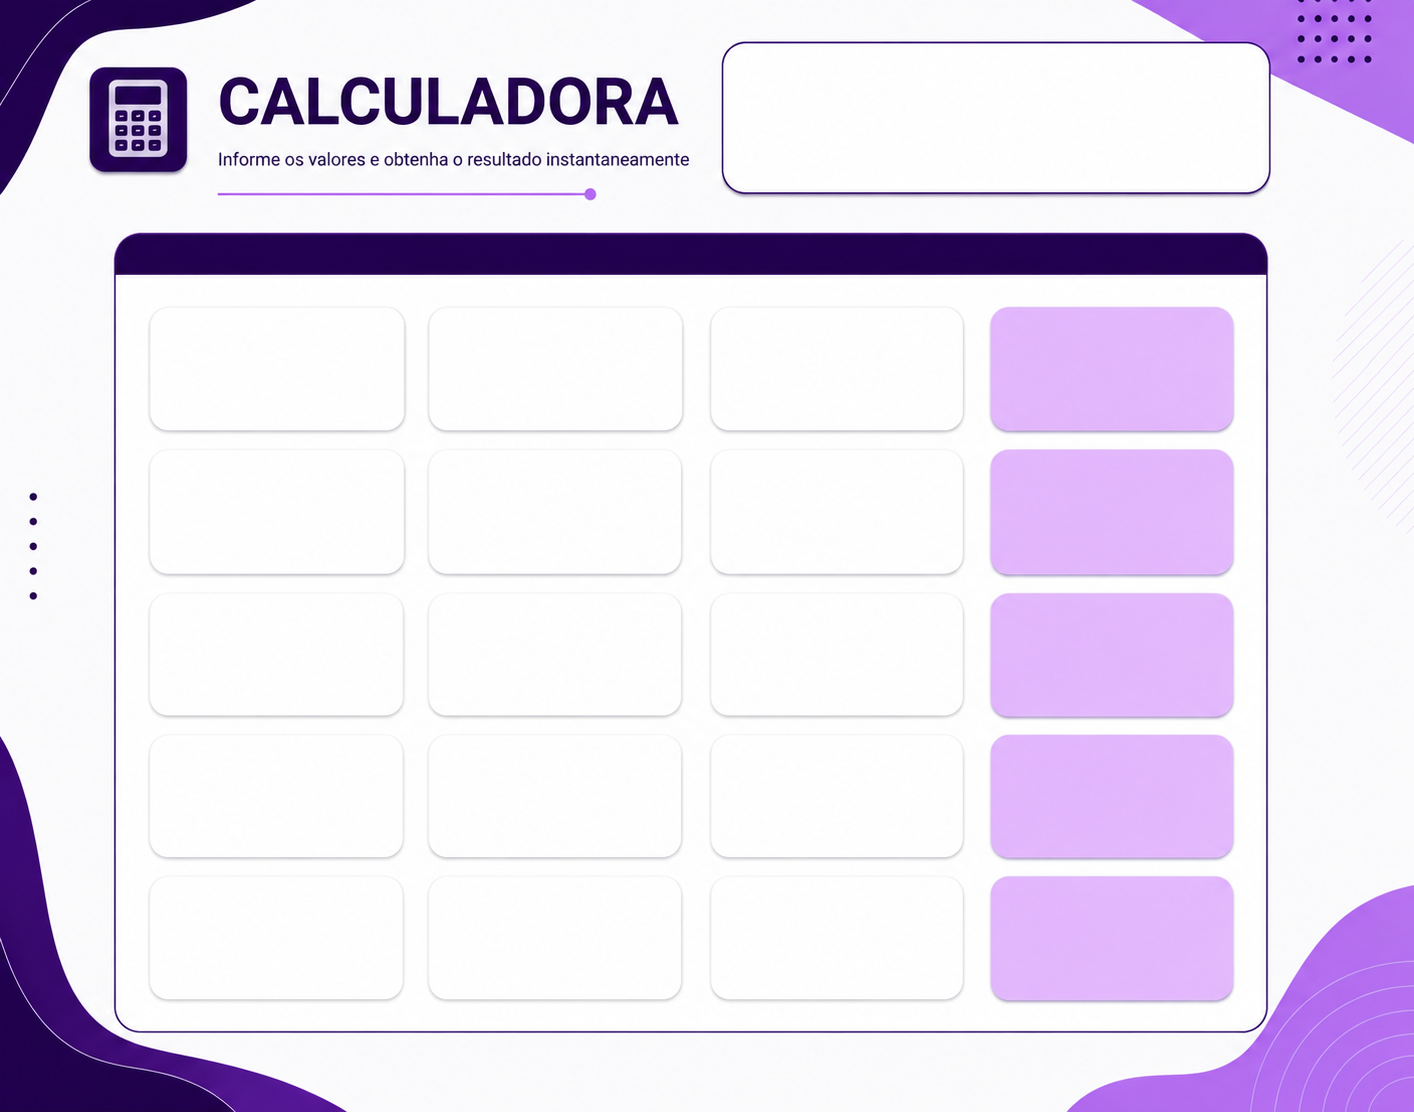

Layout of this report page (visuals, bound fields, positions):
{"tool":"tableau","page":{"name":"Calculadora","canvas":[1000,800],"ordinal":0},"visuals":[{"type":"image","param":"Image/imagemV2.png","box":[0,0,1000,800]},{"type":"worksheet","title":"Visor","mark":"Automatic","box":[514,44,384,94]},{"type":"worksheet","title":"Teclado","mark":"Square","rows":["Row"],"cols":["Column"],"box":[99,221,788,497]}]}

Visuals, with their boxes in screenshot pixels (x1, y1, x2, y2), scaled from the page's 1000x800 canvas onto the 1414x1112 screenshot:
image: 0, 0, 1413, 1111
"Visor" worksheet: 727, 61, 1270, 192
"Teclado" worksheet (Square marks): 140, 307, 1254, 998
